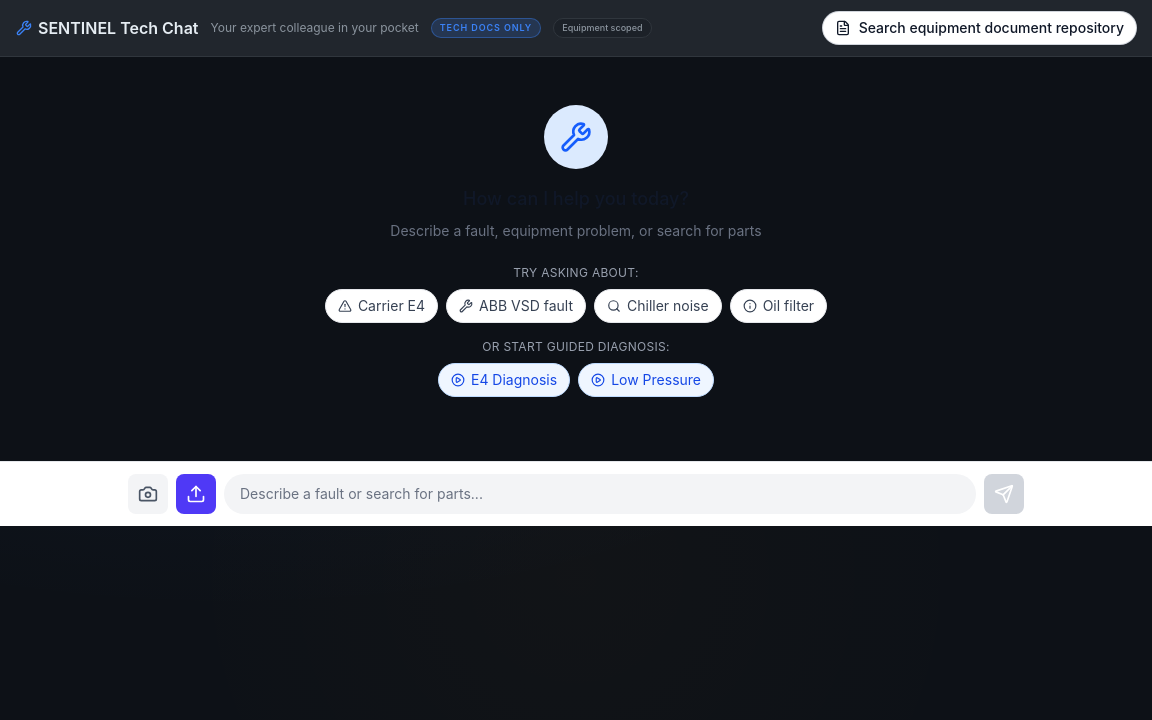
Test: TechnicianChat › Quick Action Buttons › should send message when quick action clicked
The image size is (1152, 720).
Click the button "Carrier E4" at (382, 306), box x1=325 y1=289 x2=438 y2=323
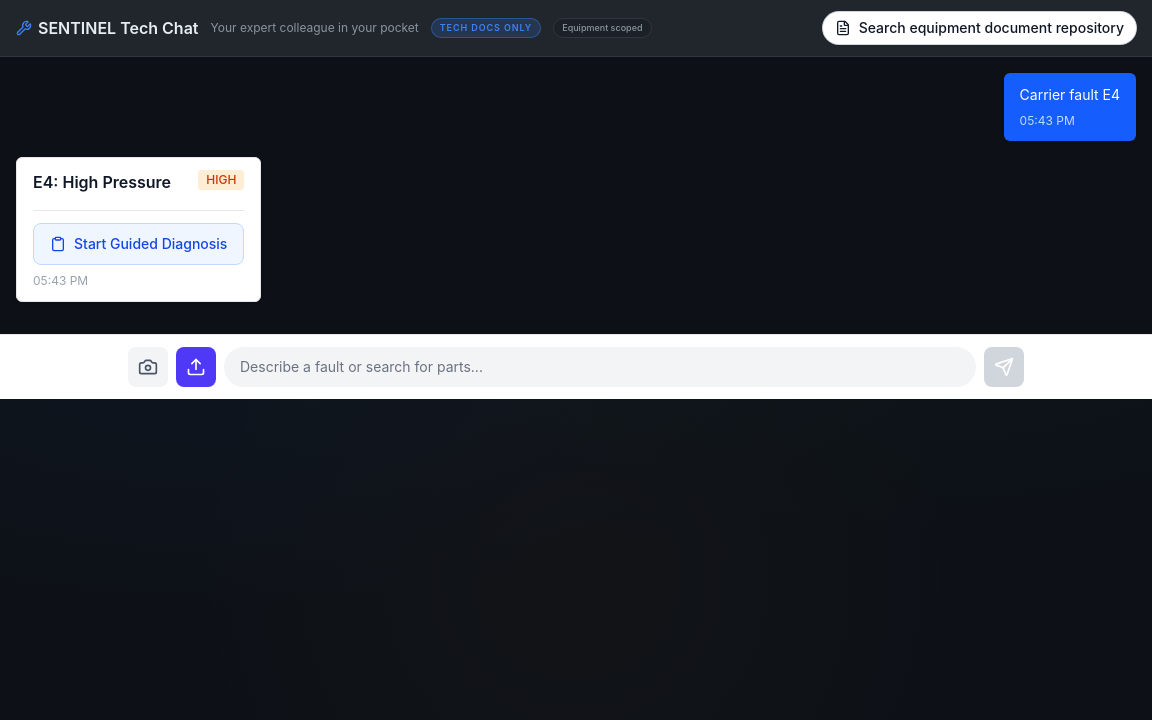
Result: the text "Carrier fault E4" is shown at x1=1020 y1=85 x2=1120 y2=105
